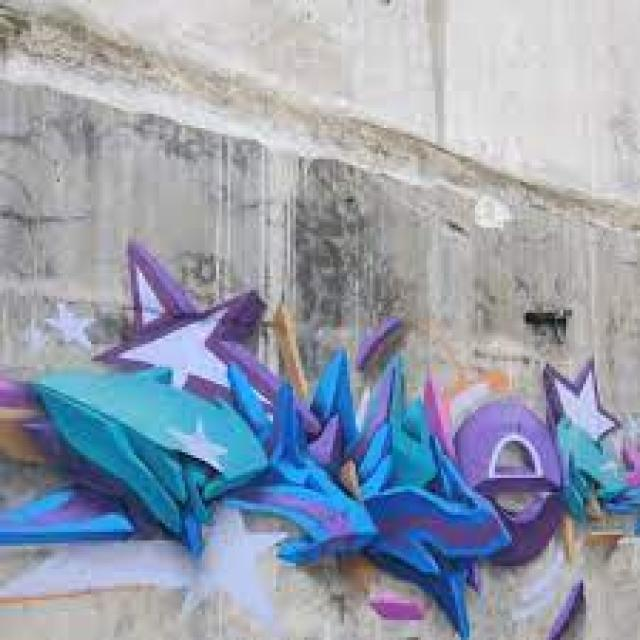-: (31, 238, 640, 639)
